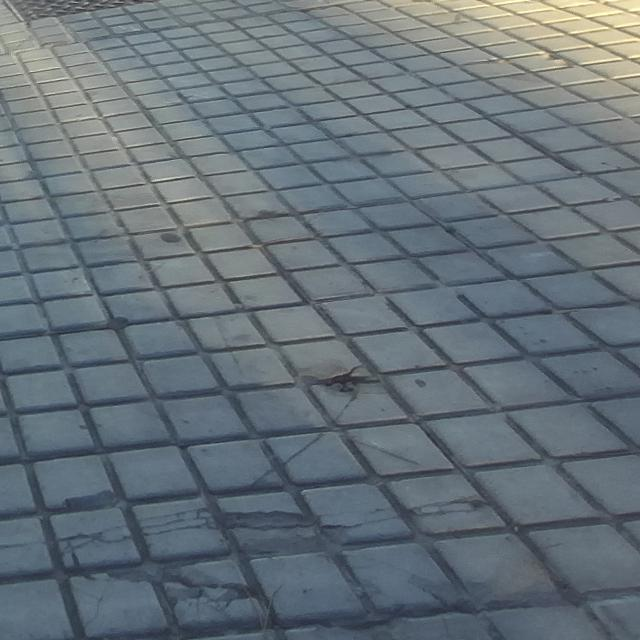calcada_quebrada: (40, 487, 484, 640), (227, 358, 387, 487)
